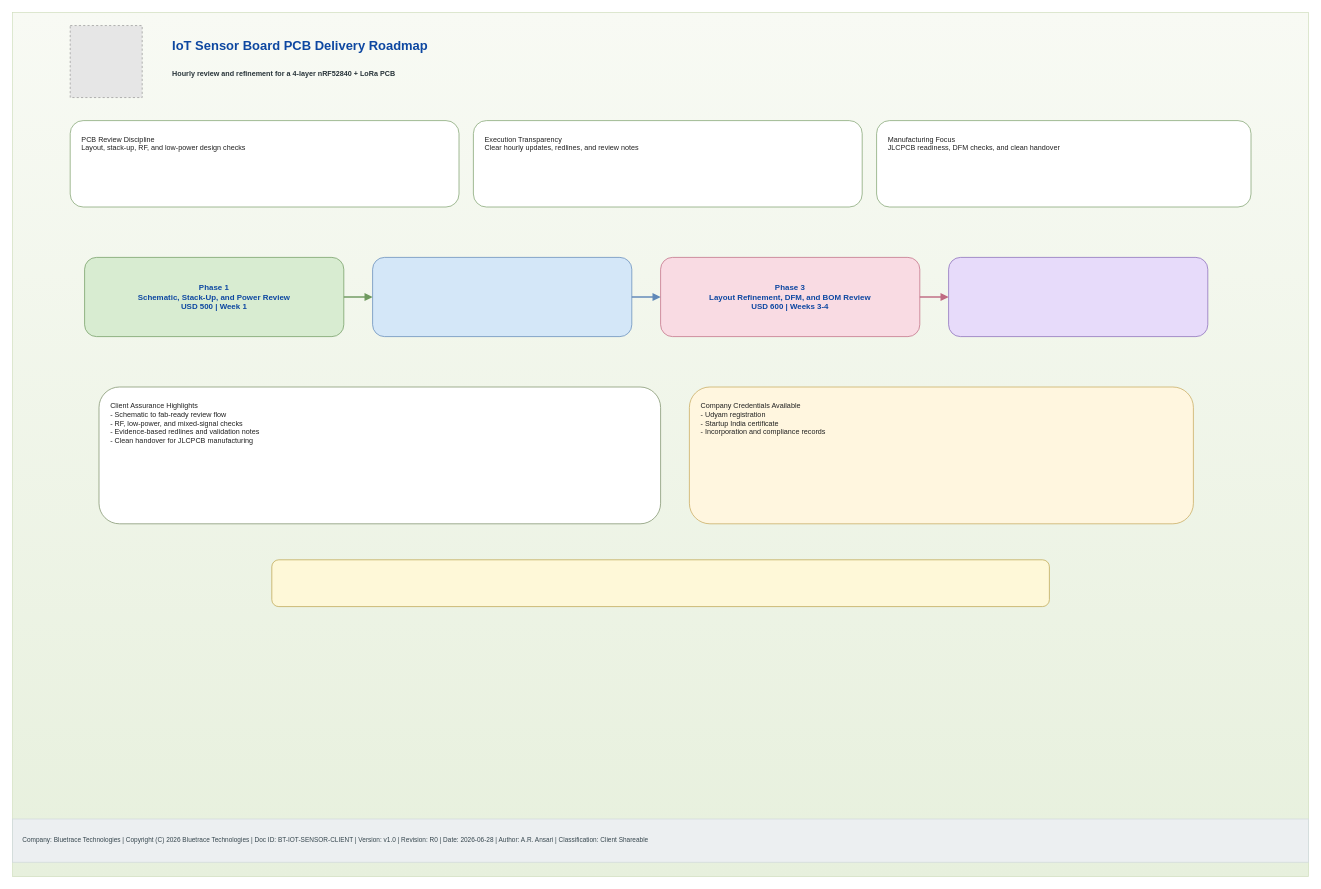
Image size: 1321x889. Some labels were removed from this diagram. Grey dashed boxes stand in for pictures. The box of each missing label's shape, as (x1, y1, x2, y2) in pixels:
Estimated Overall Timeline: 1 to 3 months, with hourly checkpoints: (271, 559, 1049, 607)
Phase 2 Floorplan, RF Keepout, and Layout Plan USD 700 | Week 2: (372, 257, 632, 337)
Phase 4 Final Review Notes and JLCPCB Readiness USD 450 | Weeks 5-6: (948, 257, 1208, 337)
